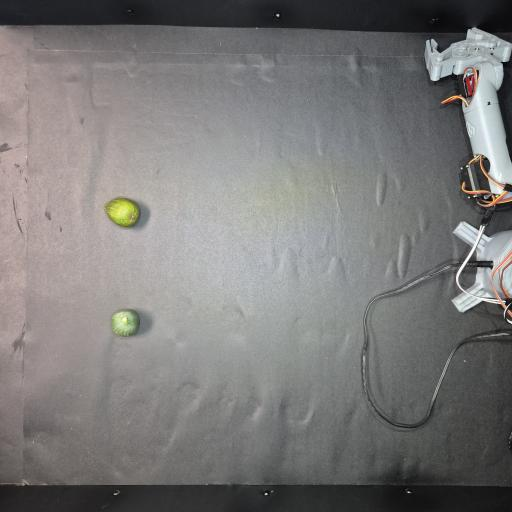higo: (104, 198, 140, 227), (111, 310, 139, 336)
